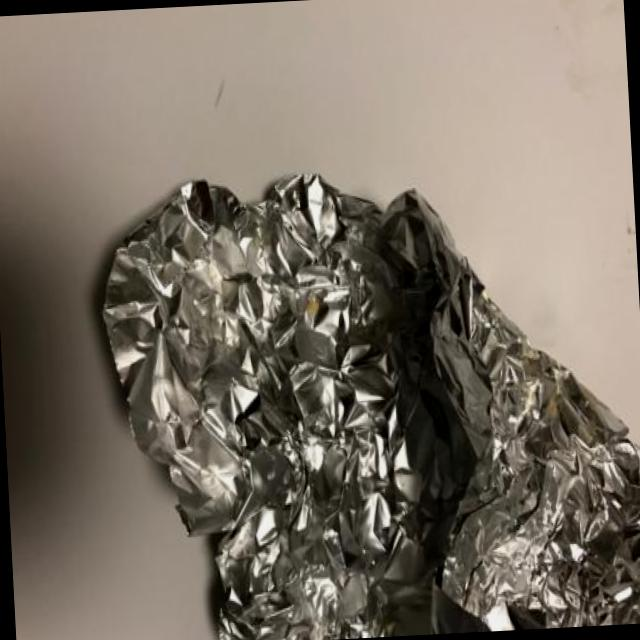kim_loai: (102, 173, 640, 640)
